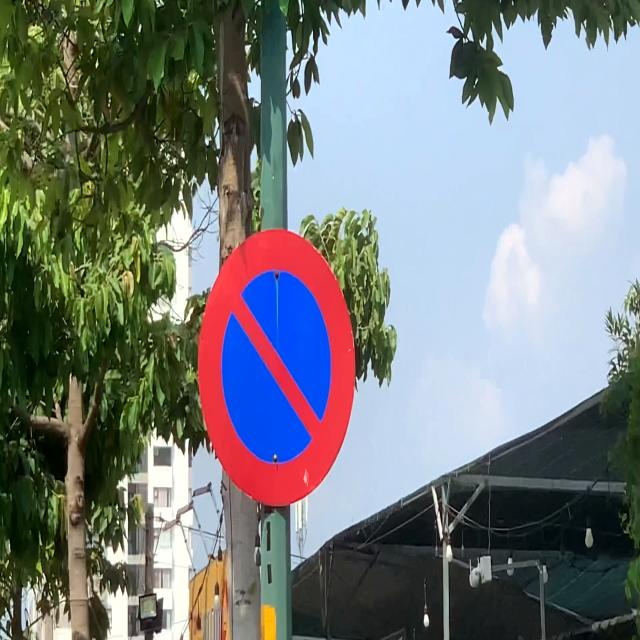P.131a: (193, 223, 360, 510)
